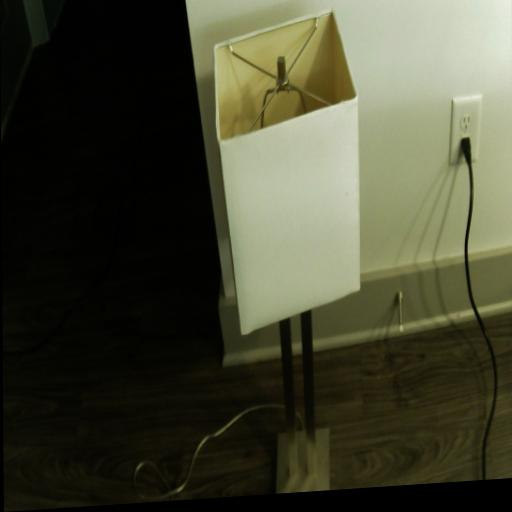lamp: (213, 6, 362, 498)
